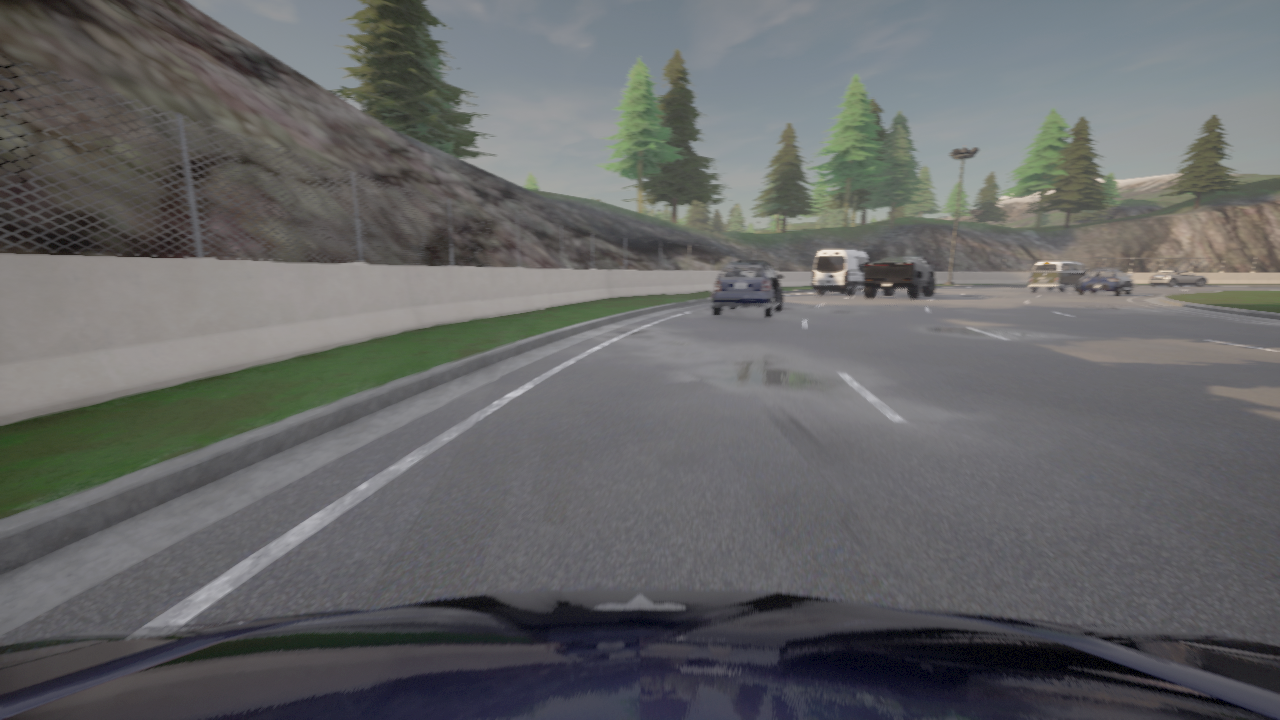cyclist: (0, 588, 1279, 719), (711, 261, 782, 317), (864, 255, 934, 298), (812, 248, 869, 294), (1028, 260, 1088, 291), (1078, 268, 1133, 295), (1149, 270, 1207, 286)
